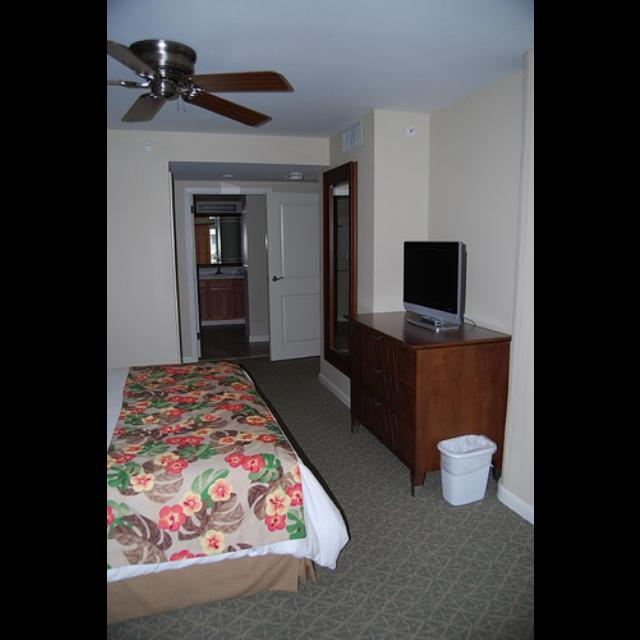Flat-Panel-TV: (402, 240, 462, 322)
